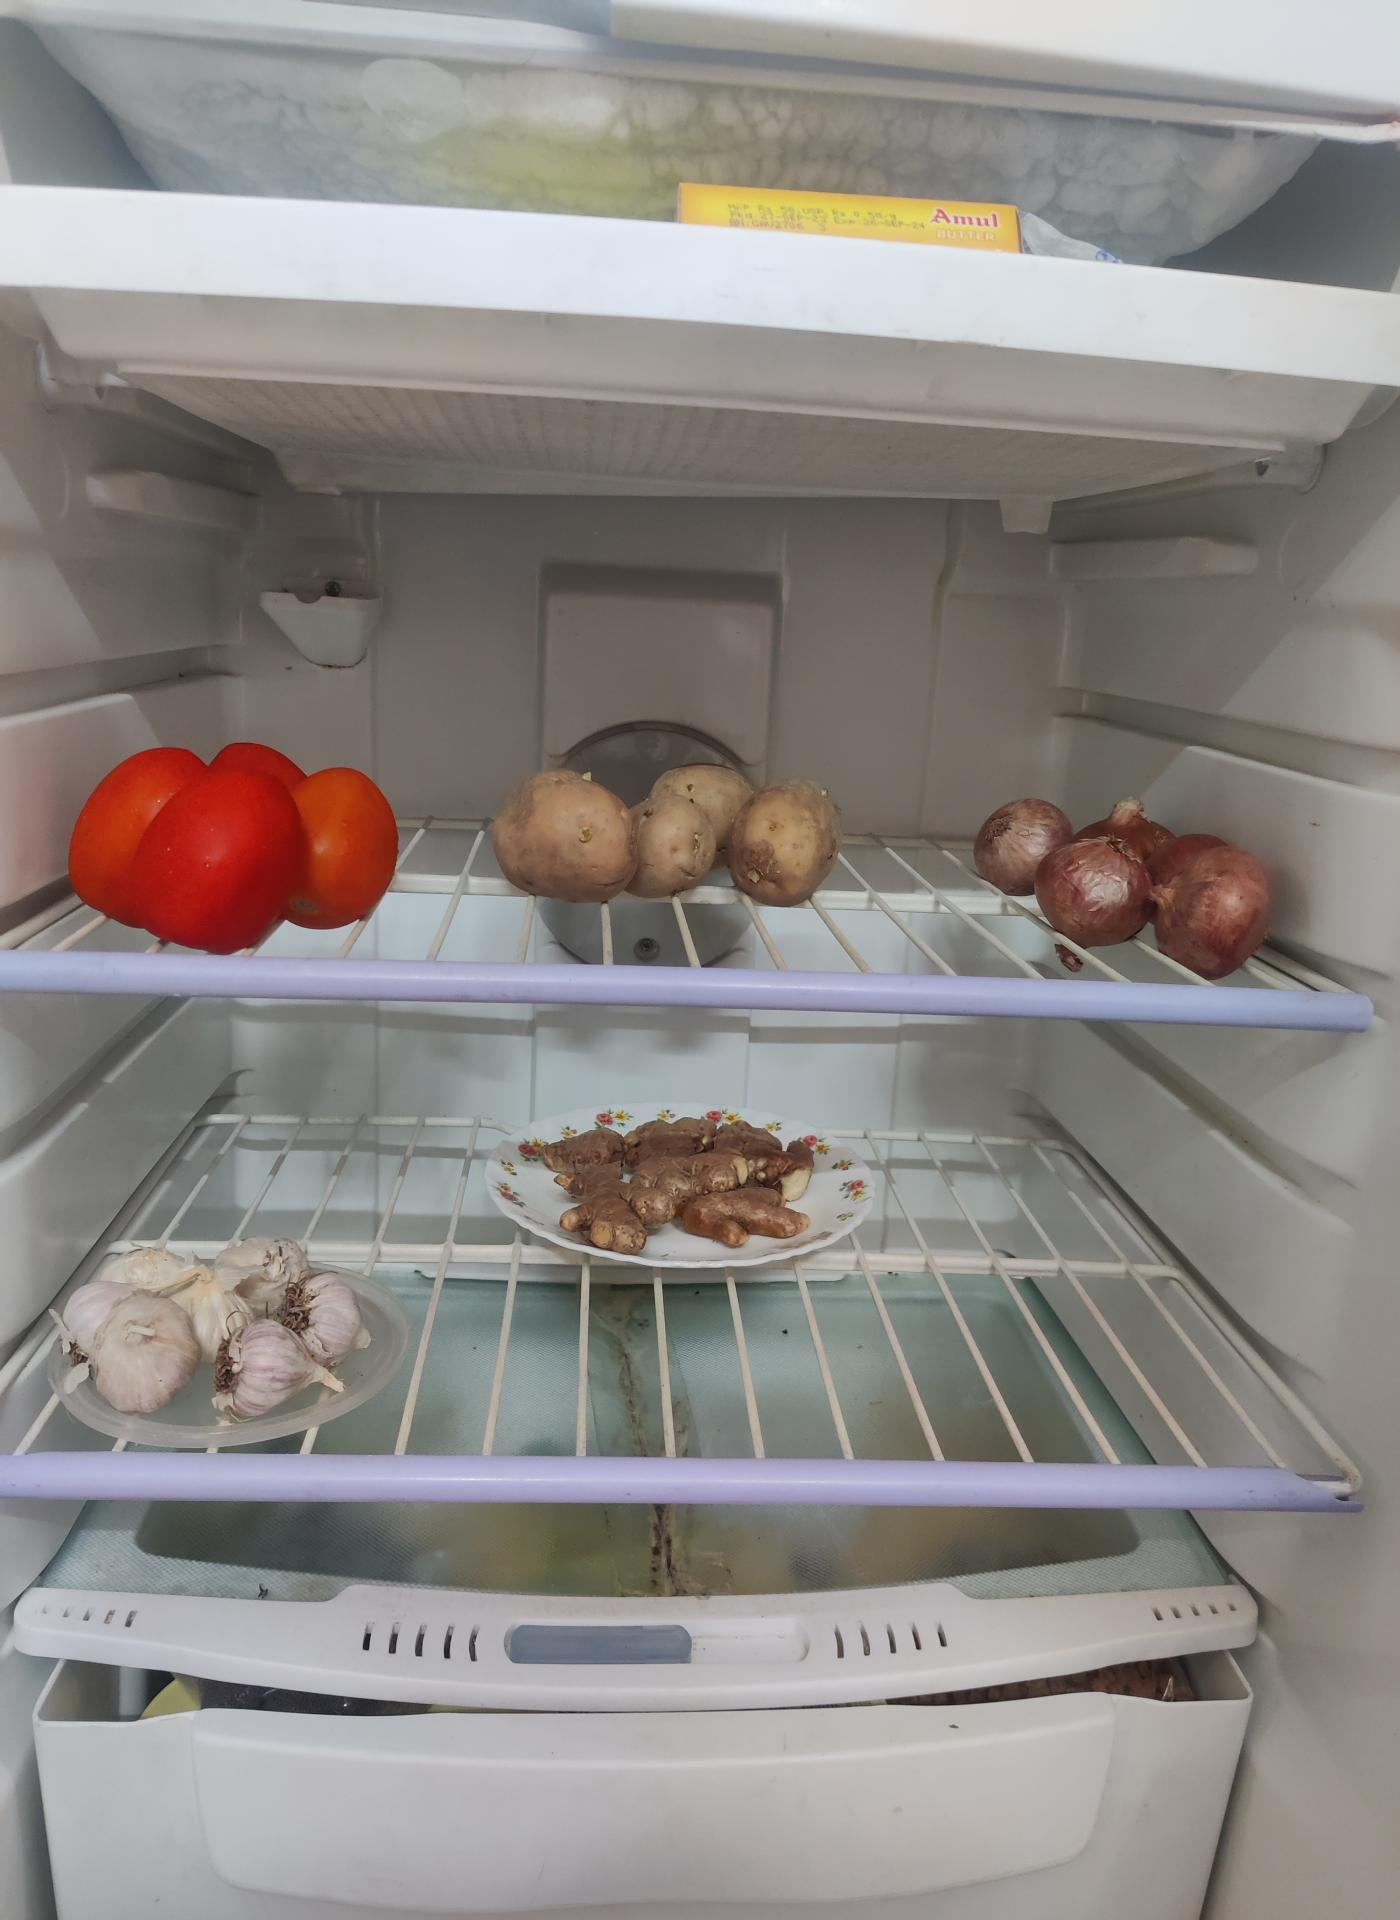garlic: (63, 1230, 338, 1410)
ginger: (522, 1115, 832, 1258)
onion: (980, 787, 1281, 969)
potato: (496, 760, 845, 908)
tomato: (73, 741, 404, 954)
